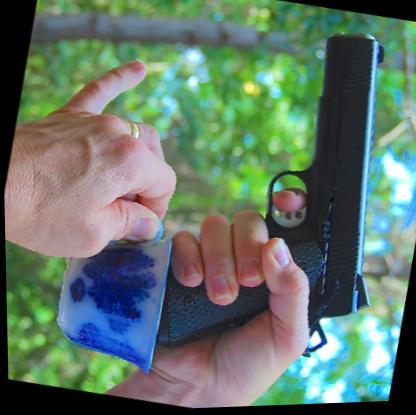pistol: (148, 2, 415, 382)
